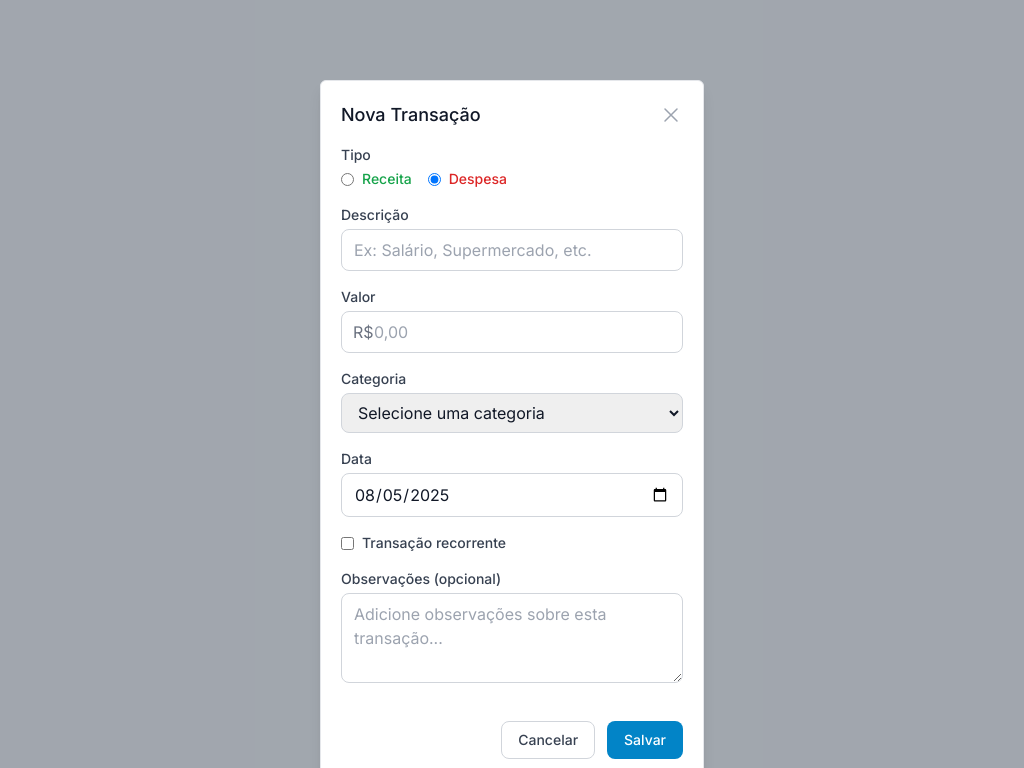
TransactionForm › habilita campos de recorrência quando marcado
The width and height of the screenshot is (1024, 768).
Step 1. Click the checkbox labelled "Transação recorrente" → (348, 543), box x1=341 y1=536 x2=354 y2=550
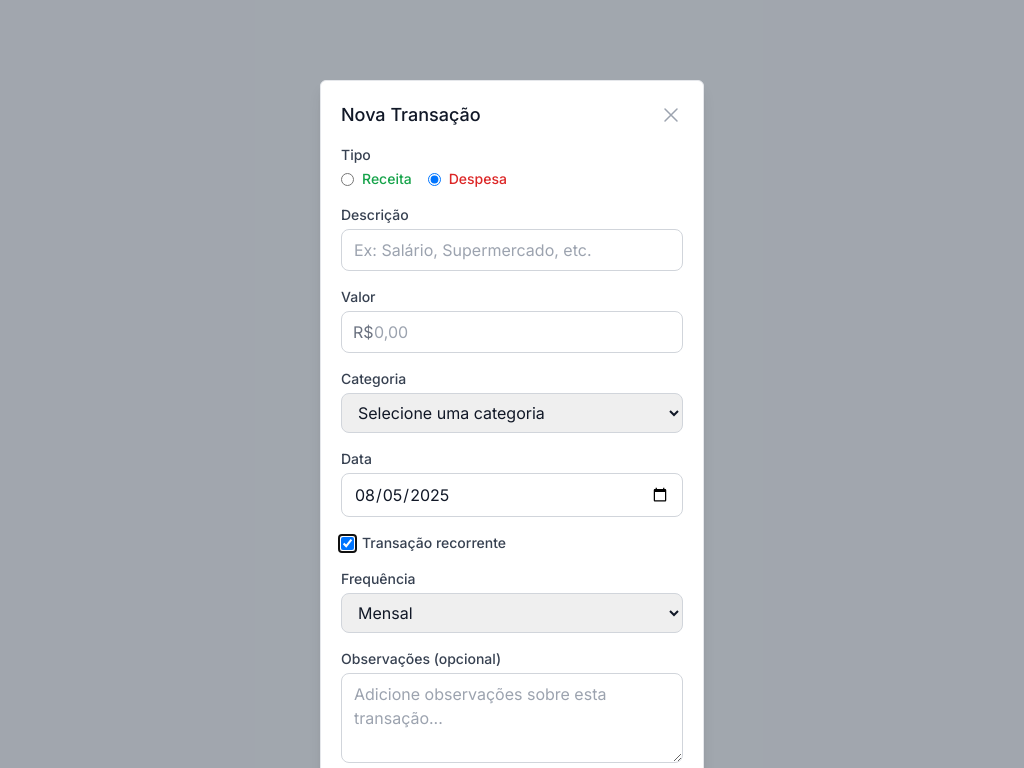
Check: the dropdown labelled "Frequência" is shown, box x1=341 y1=593 x2=683 y2=633
